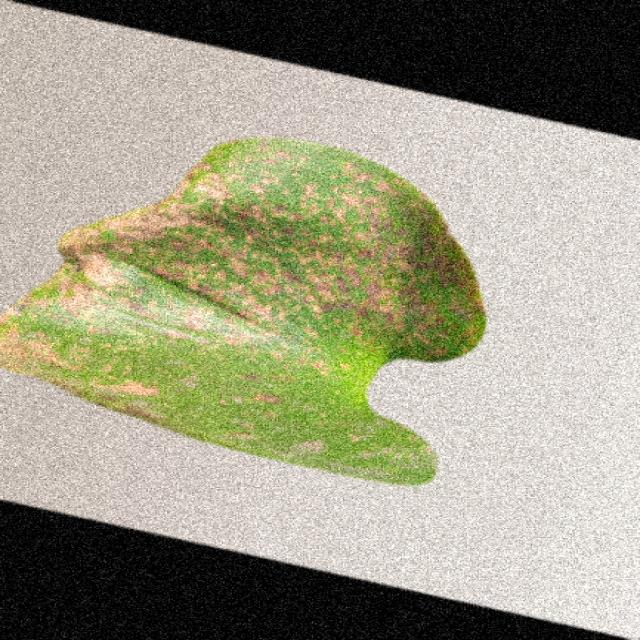daun berpenyakit bercak: (3, 138, 485, 484)
